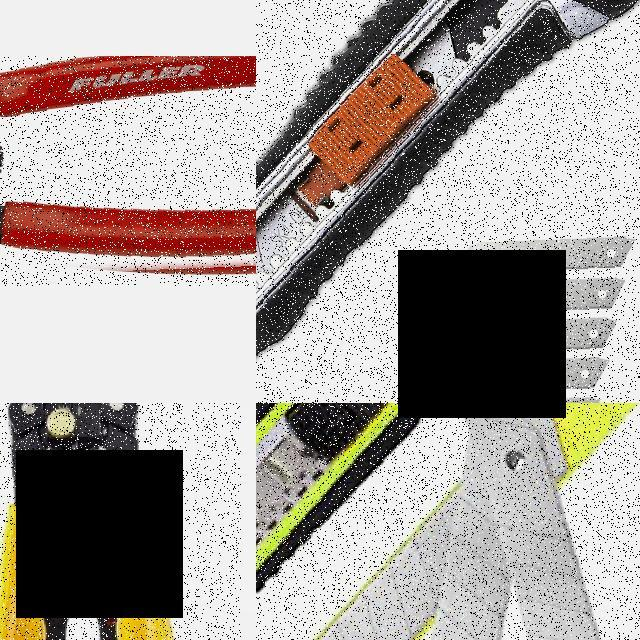estilete: (256, 0, 636, 352)
